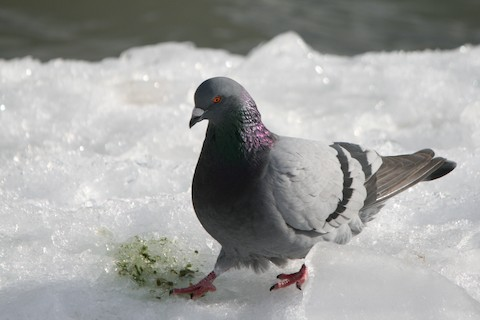pigeon: (167, 75, 461, 302)
